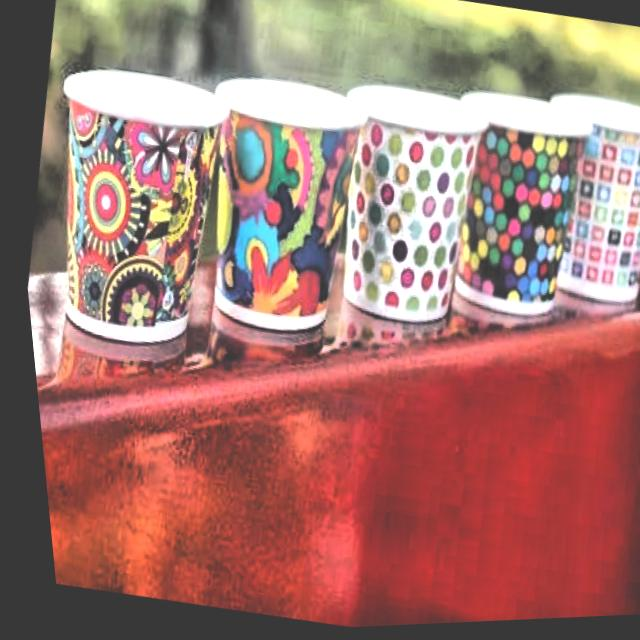Cup: (10, 56, 236, 366), (172, 58, 385, 351), (301, 57, 508, 337), (417, 63, 606, 329), (519, 75, 640, 312)
